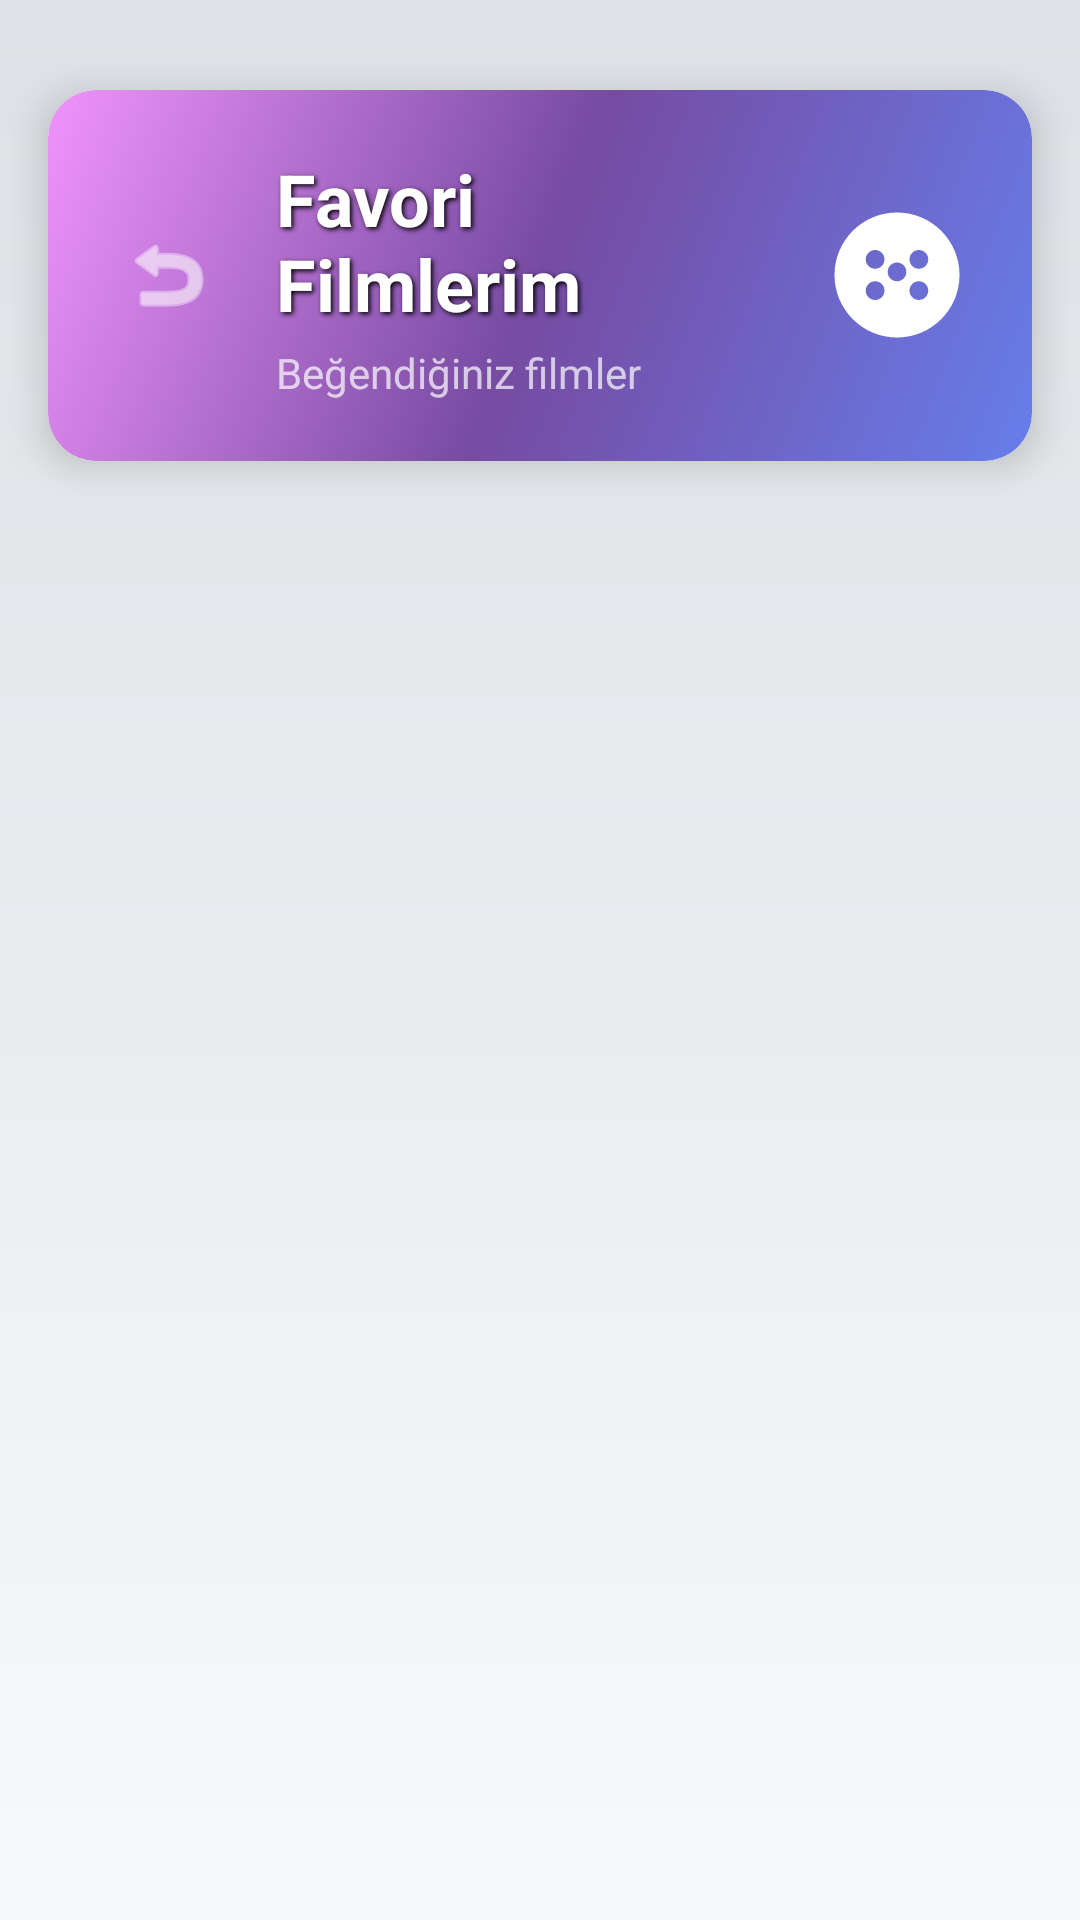

Screen size 1080×1920. Icon name, then its box in pixels as bbox(x1, y1, x2, y2):
revert: bbox(135, 244, 204, 307)
